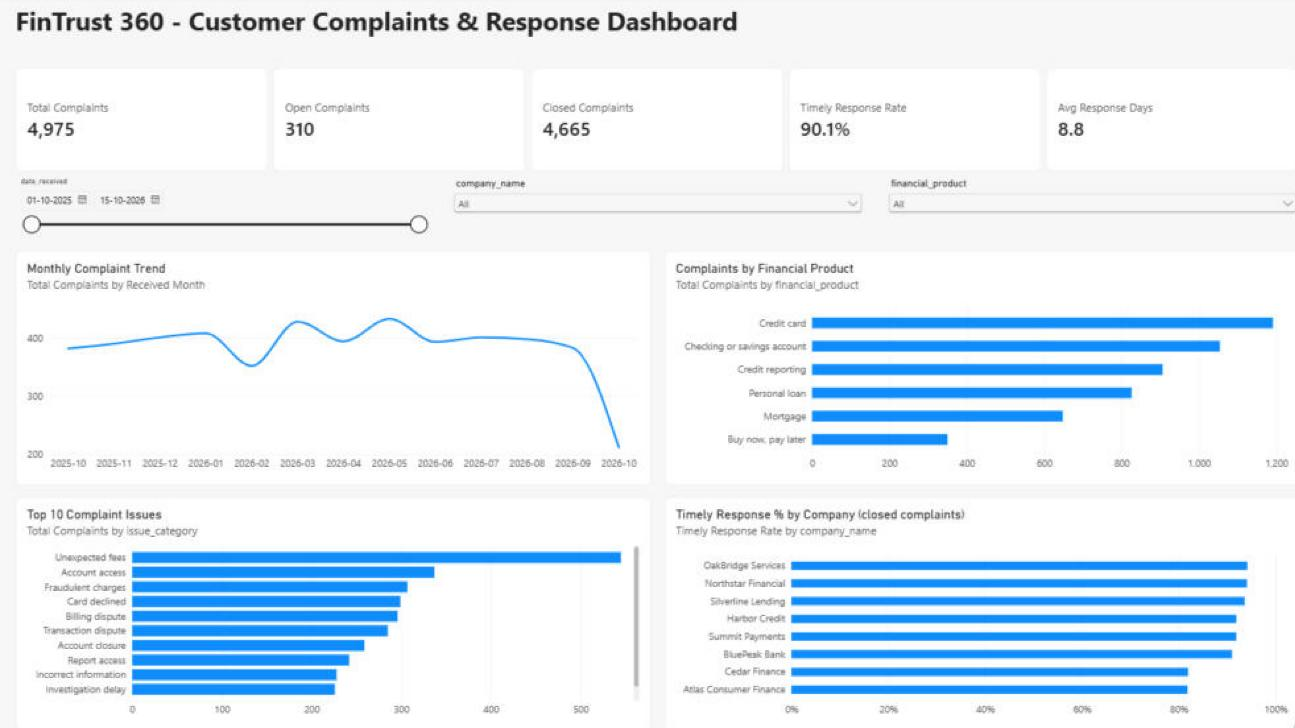

This screenshot's page, from the dashboard's own definition file:
{"tool":"powerbi","page":{"name":"Page 1","canvas":[1920,1080],"ordinal":0},"visuals":[{"type":"cardVisual","fields":{"Data":["FinTrust360_cleaned.Total Complaints","FinTrust360_cleaned.Open Complaints","FinTrust360_cleaned.Closed Complaints","FinTrust360_cleaned.Timely Response Rate","FinTrust360_cleaned.Avg Response Days"]},"box":[30,105,1860,150],"z":0},{"type":"lineChart","title":"Monthly Complaint Trend","fields":{"Category":["FinTrust360_cleaned.Received Month"],"Y":["FinTrust360_cleaned.Total Complaints"]},"box":[30,370,920,340],"z":1000},{"type":"clusteredBarChart","title":"Complaints by Financial Product","fields":{"Category":["FinTrust360_cleaned.financial_product"],"Y":["FinTrust360_cleaned.Total Complaints"]},"box":[970,370,920,340],"z":2000},{"type":"clusteredBarChart","title":"Top 10 Complaint Issues","fields":{"Category":["FinTrust360_cleaned.issue_category"],"Y":["FinTrust360_cleaned.Total Complaints"]},"box":[30,725,920,340],"z":3000},{"type":"clusteredBarChart","title":"Timely Response % by Company (closed complaints)","fields":{"Category":["FinTrust360_cleaned.company_name"],"Y":["FinTrust360_cleaned.Timely Response Rate"]},"box":[970,725,920,340],"z":4000},{"type":"slicer","fields":{"Values":["FinTrust360_cleaned.date_received"]},"box":[30,263,600,100],"z":4001},{"type":"slicer","fields":{"Values":["FinTrust360_cleaned.company_name"]},"box":[660,263,600,100],"z":4002},{"type":"slicer","fields":{"Values":["FinTrust360_cleaned.financial_product"]},"box":[1290,263,600,100],"z":4003},{"type":"textbox","box":[100,100,300,300],"z":4004},{"type":"textbox","box":[30,10,1300,85],"z":4005}]}

Visuals, with their boxes in screenshot pixels (x1, y1, x2, y2), scaled from the page's 1920x1080 canvas onto the 1295x728 screenshot:
cardVisual - FinTrust360_cleaned.Total Complaints x FinTrust360_cleaned.Open Complaints: (left=20, top=71, right=1275, bottom=172)
"Monthly Complaint Trend" lineChart: (left=20, top=249, right=641, bottom=479)
"Complaints by Financial Product" clusteredBarChart: (left=654, top=249, right=1275, bottom=479)
"Top 10 Complaint Issues" clusteredBarChart: (left=20, top=489, right=641, bottom=718)
"Timely Response % by Company (closed complaints)" clusteredBarChart: (left=654, top=489, right=1275, bottom=718)
slicer - FinTrust360_cleaned.date_received: (left=20, top=177, right=425, bottom=245)
slicer - FinTrust360_cleaned.company_name: (left=445, top=177, right=850, bottom=245)
slicer - FinTrust360_cleaned.financial_product: (left=870, top=177, right=1275, bottom=245)
textbox: (left=67, top=67, right=270, bottom=270)
textbox: (left=20, top=7, right=897, bottom=64)
